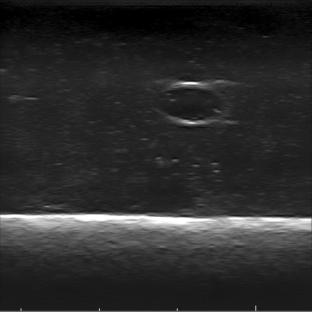vessel: (157, 81, 227, 126)
